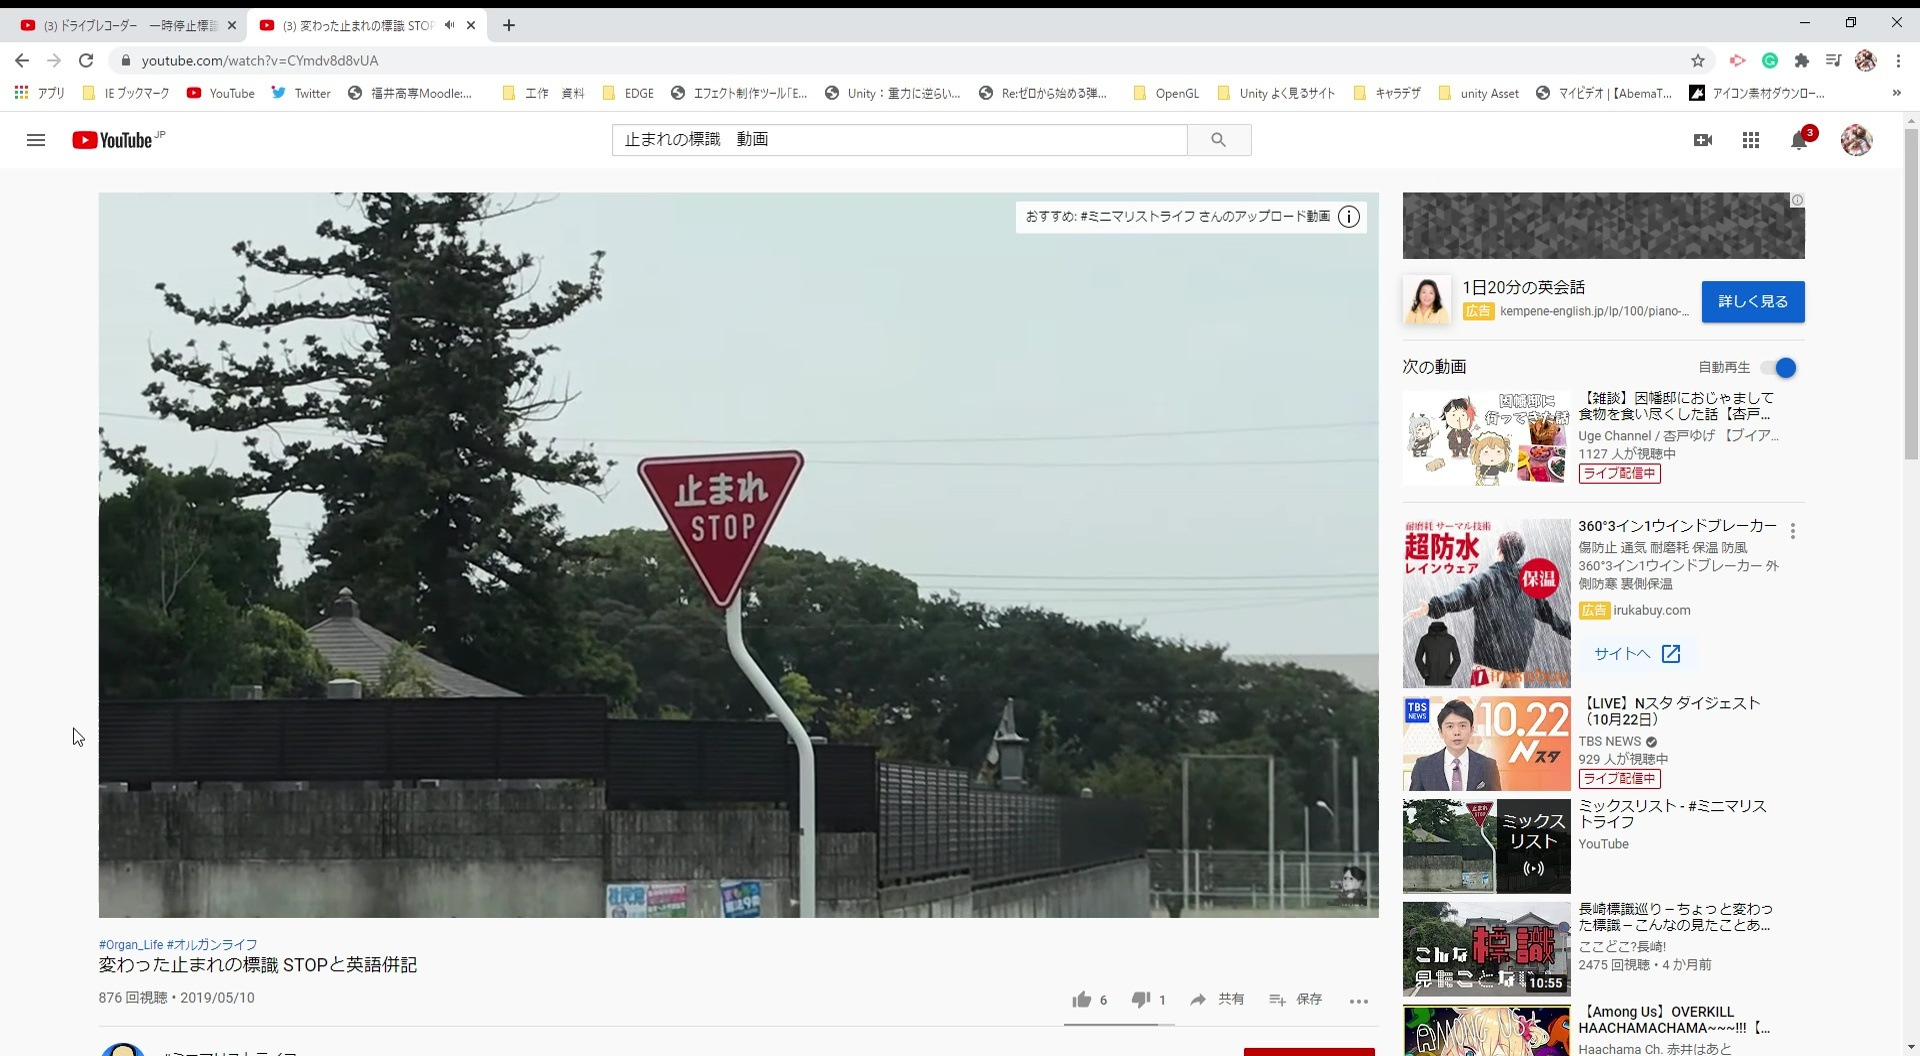Regulatory_sign_triangle: (627, 432, 803, 620)
